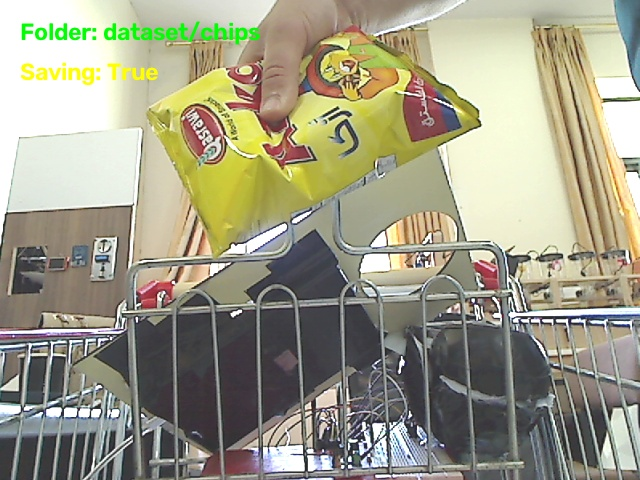chips: (148, 27, 479, 255)
